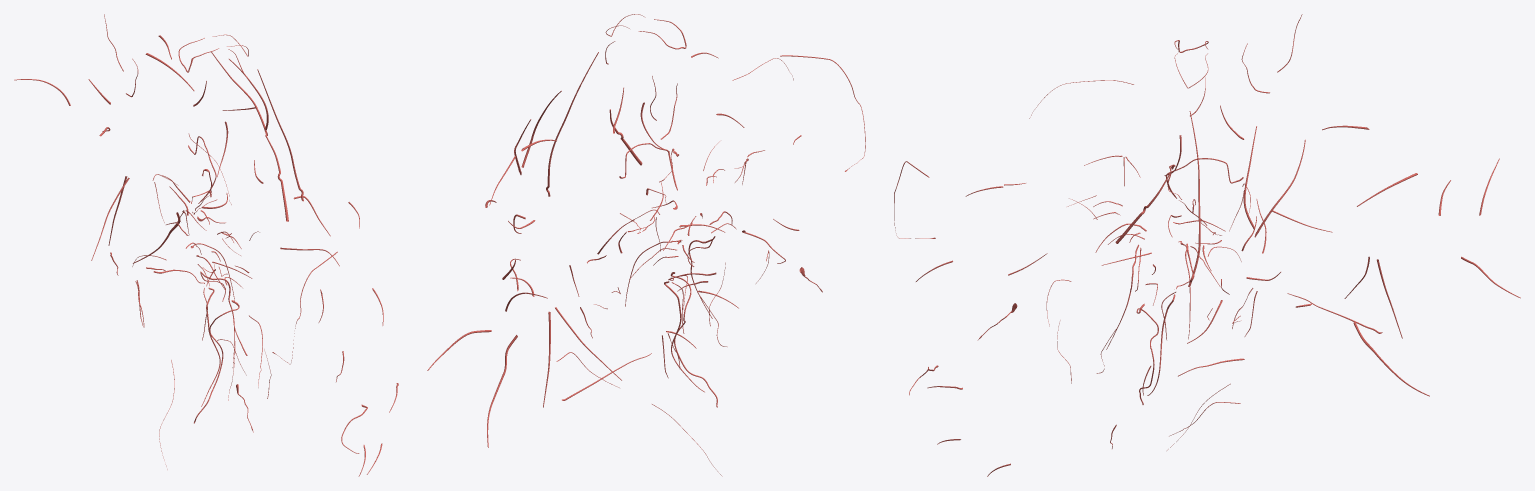
3 views of the same model, side by side, from view 1: azimuth 30°, elevation 25°; view 2: azimuth 150°, elevation 25°; view 3: azimuth 270°, elevation 25° (orthographic). The views are drawn at different scales.
Size of the model in its own units: 73.87 by 159 by 207.
